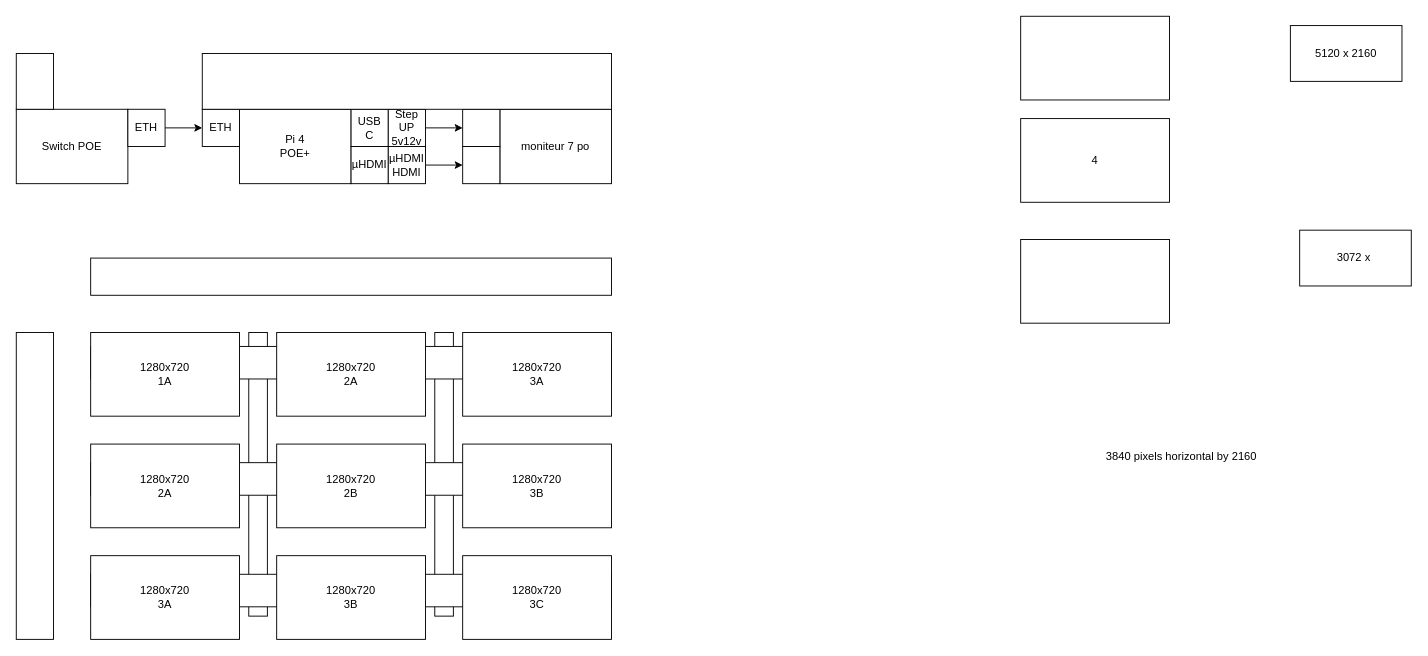
Some shapes in this 1428 by 656 pixel diagram are drawn without their labels. Here are the shapes that lost their labels. From the top down, the centre of each, then its label:
At (x=34, y=81): "2x".
At (x=406, y=81): "12x".
At (x=481, y=127): "DC in".
At (x=481, y=165): "HDMI".
At (x=350, y=276): "3840 px".
At (x=34, y=485): "2160 px".
